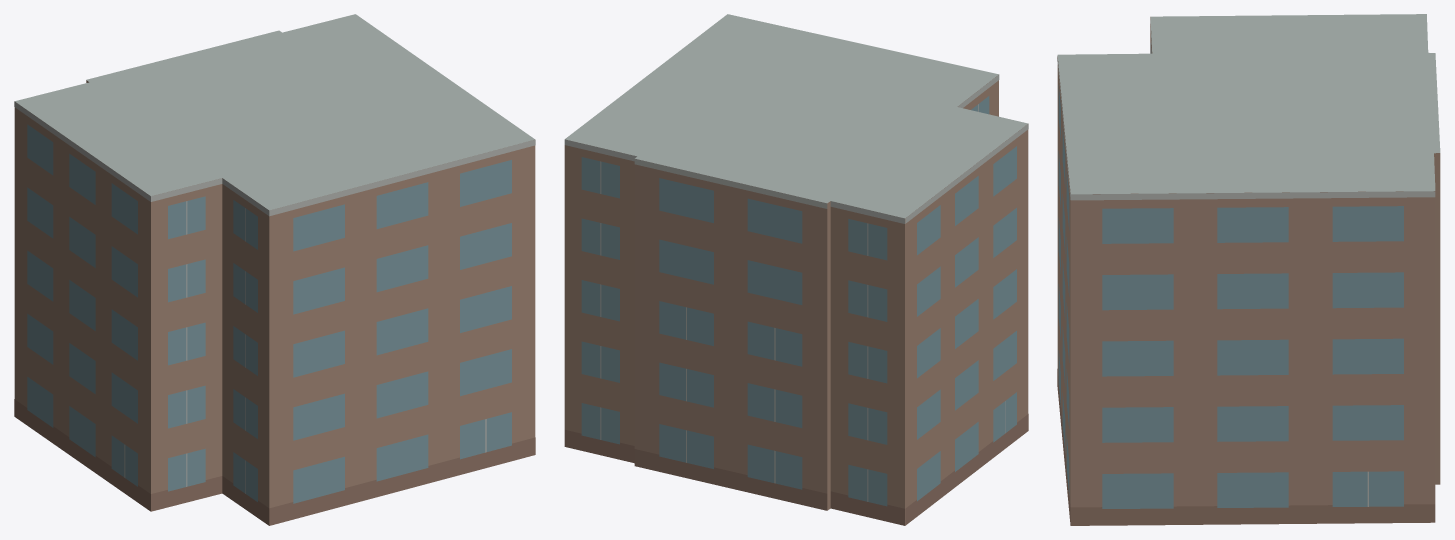
File: survey-upis-32996388.glb
The picture shows the model from 3 angles, left to right: view 1: azimuth 30°, elevation 25°; view 2: azimuth 150°, elevation 25°; view 3: azimuth 270°, elevation 25°; orthographic projection. The views are drawn at different scales.
Visible parts, largest first — view 1: survey-upis-32996388.tmp; view 2: survey-upis-32996388.tmp; view 3: survey-upis-32996388.tmp.
Boxes of the visible parts, x1,y1,x2,y2 form: survey-upis-32996388.tmp: (14,14,535,525); survey-upis-32996388.tmp: (564,14,1028,525); survey-upis-32996388.tmp: (1057,14,1440,525).
Size of the model in its own units: 15.4 by 13.2 by 13.82.
